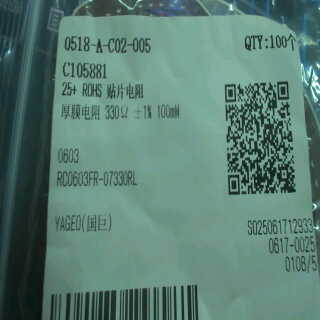330R: (102, 102, 131, 122)
